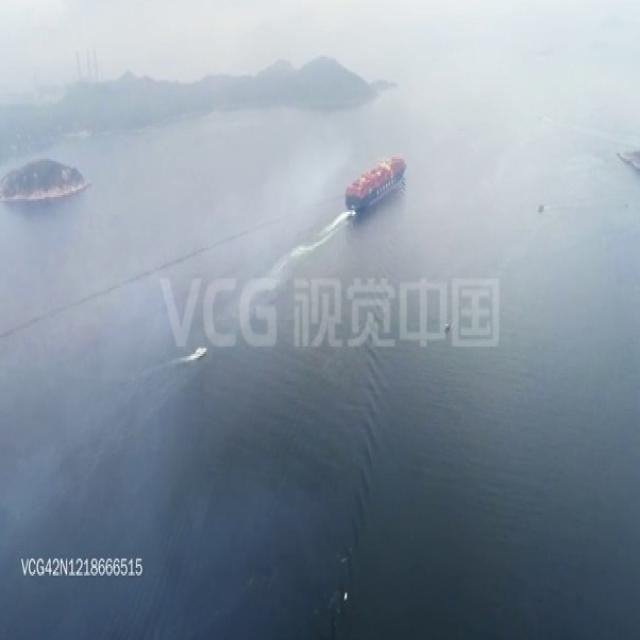cargoship: (344, 150, 406, 213)
houseboat: (188, 342, 207, 362), (444, 319, 452, 335), (536, 203, 544, 212)
